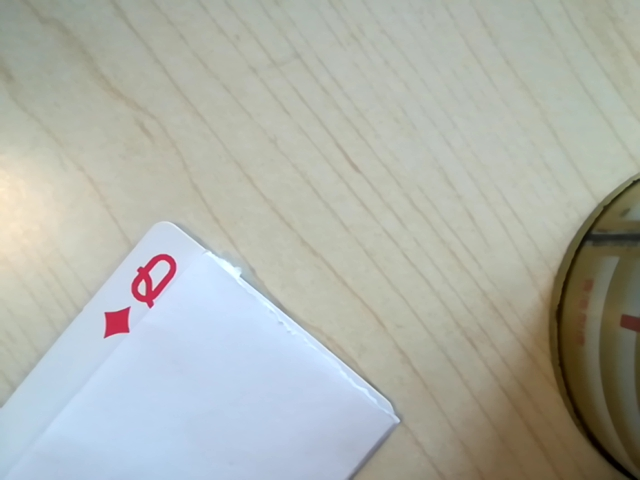fk q: (94, 245, 186, 345)
